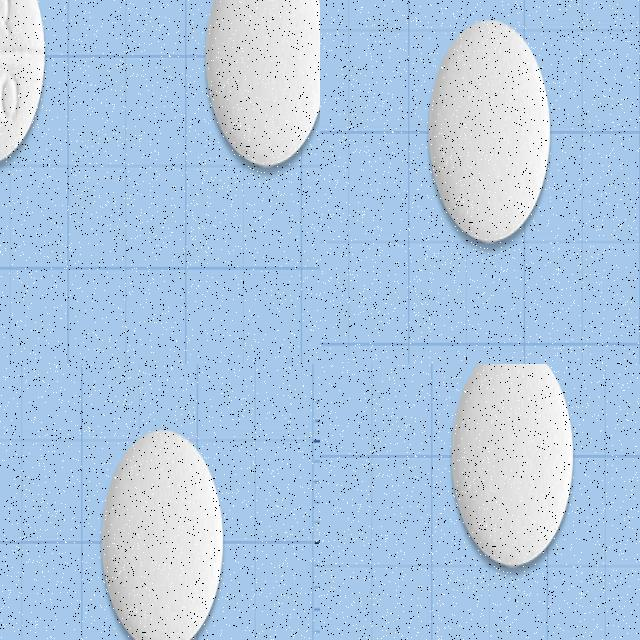CLARIUM: (0, 128, 246, 359)
Clad: (358, 0, 640, 148), (320, 96, 392, 358)
Claric - 500mg: (39, 364, 320, 557)
Cq Robey: (452, 364, 574, 567)
